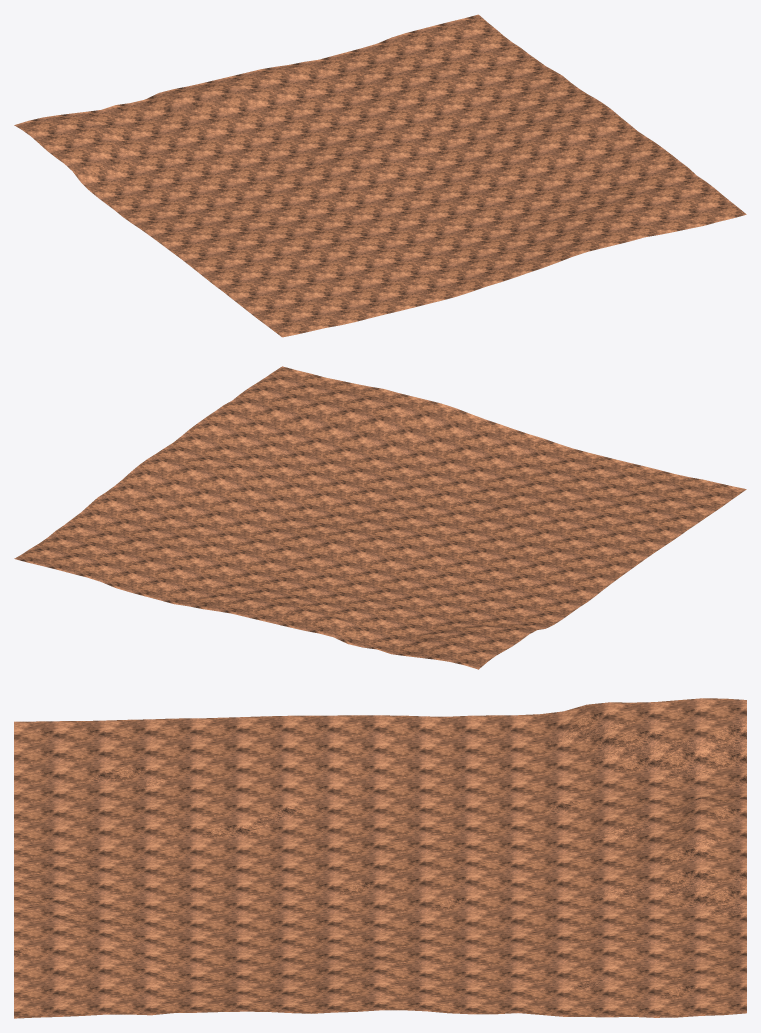
Rendered from terrain_09_17.dae.
3 renders of one model, top to bottom at view 1: azimuth 30°, elevation 25°; view 2: azimuth 150°, elevation 25°; view 3: azimuth 270°, elevation 25°, orthographic. The views are drawn at different scales.
Parts seen in each view (by area): view 1: terrain_09_17-node; view 2: terrain_09_17-node; view 3: terrain_09_17-node.
Part boxes in pixels (x1,y1,x2,y2): terrain_09_17-node: [14, 14, 746, 337]; terrain_09_17-node: [14, 366, 746, 669]; terrain_09_17-node: [14, 698, 746, 1018].
Size of the model in its own units: 128 by 128 by 5.14.
Materials: 1 (1 with a texture image).
